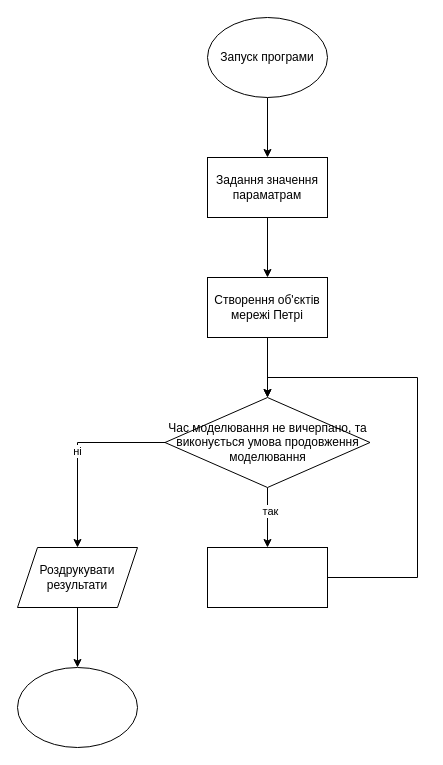
This 443x765 diagram has some shape labels left out. The centre of each missing label's shape, as x and y in pixels:
Виконання всіх можливих переходів: point (267, 577)
Кінець програми: point (77, 707)
